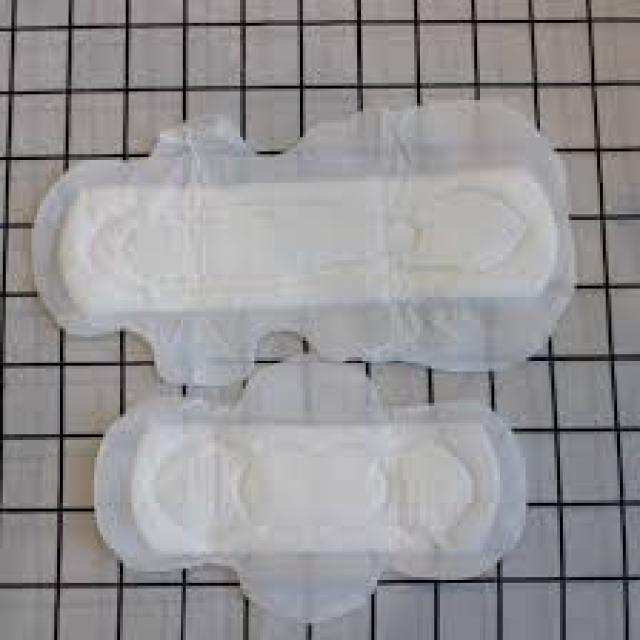napkin: (35, 102, 574, 386), (95, 362, 525, 621)
